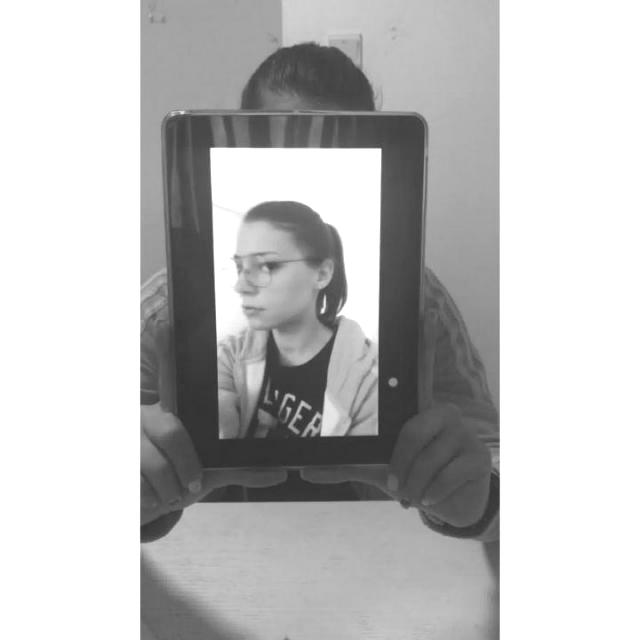fake: (157, 110, 432, 480)
